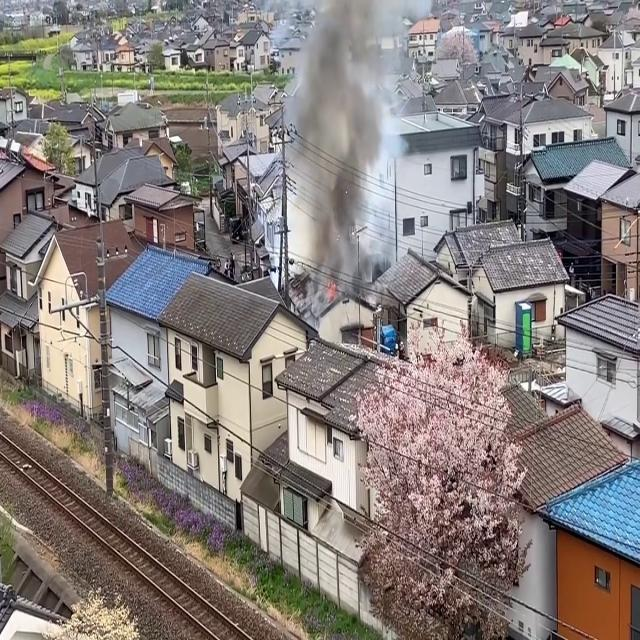Smoke: (282, 0, 404, 295)
